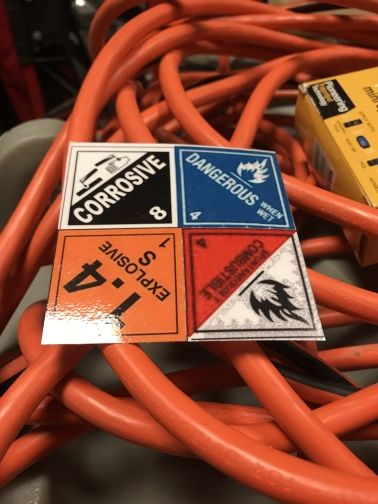Corrosive: (58, 142, 179, 228)
DangerousWhenWet: (175, 144, 297, 230)
Explosive: (40, 230, 186, 344)
SpontaneouslyCombustible: (183, 227, 326, 342)
